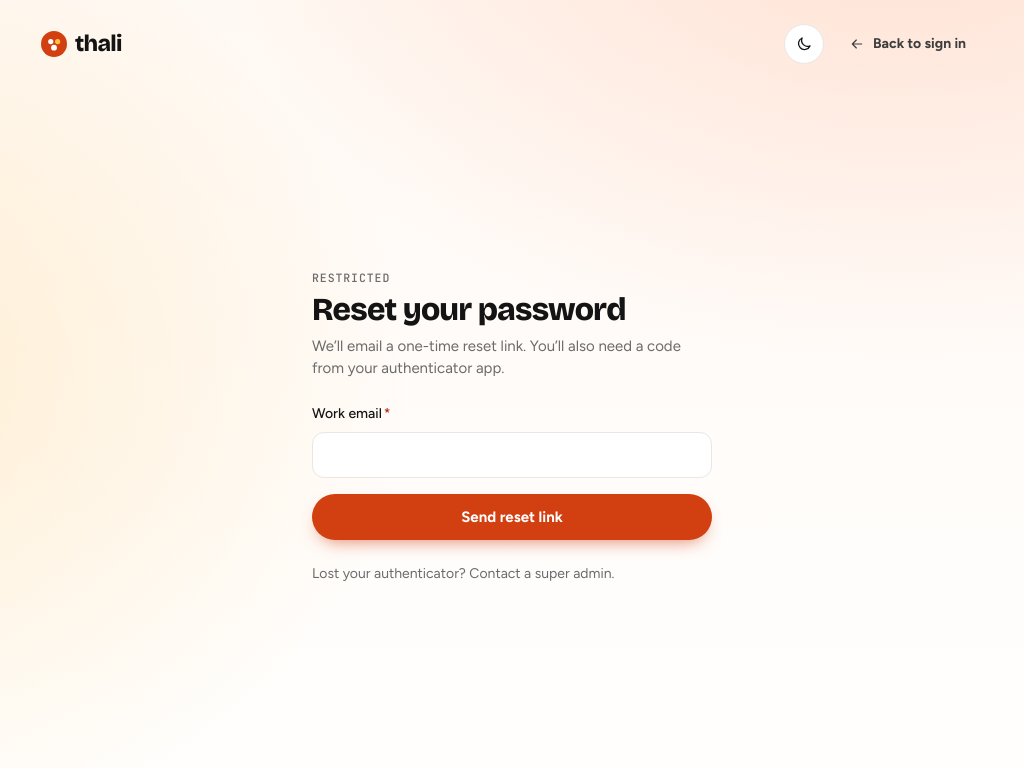
Test: admin password reset (IDN-1) › forgot always confirms (no account probing)
Type "ops@thali.app" into the field labelled "Work email*" at (512, 455), box [312, 432, 712, 478]
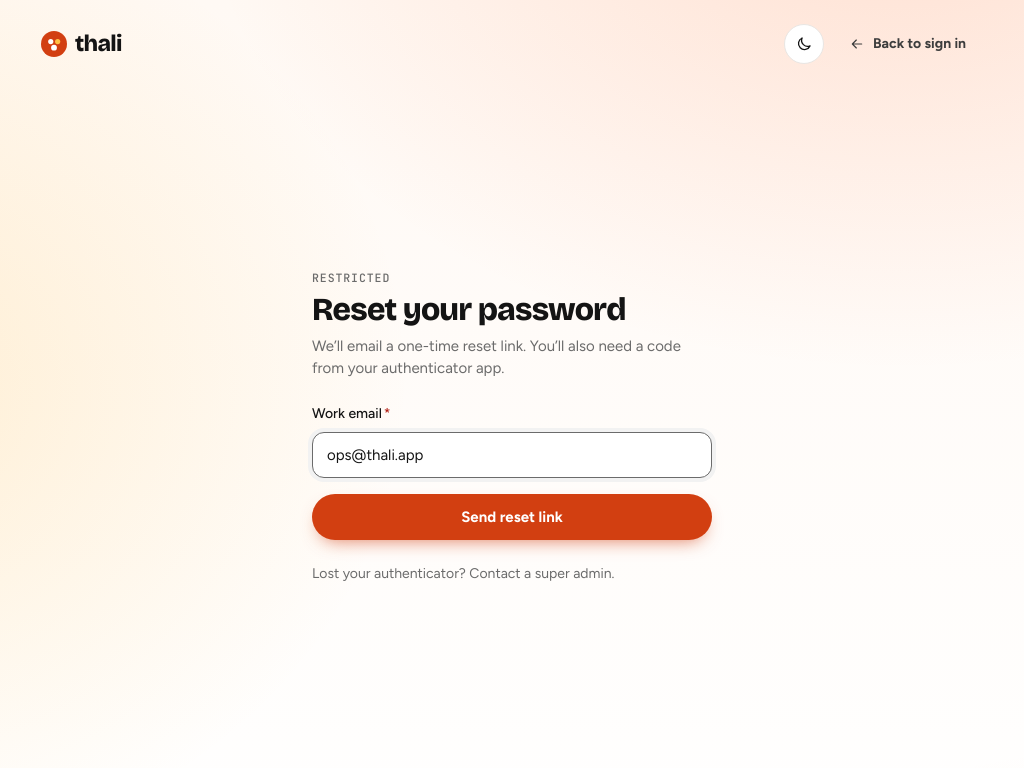
Click the button "Send reset link" at (512, 517), box [312, 494, 712, 540]
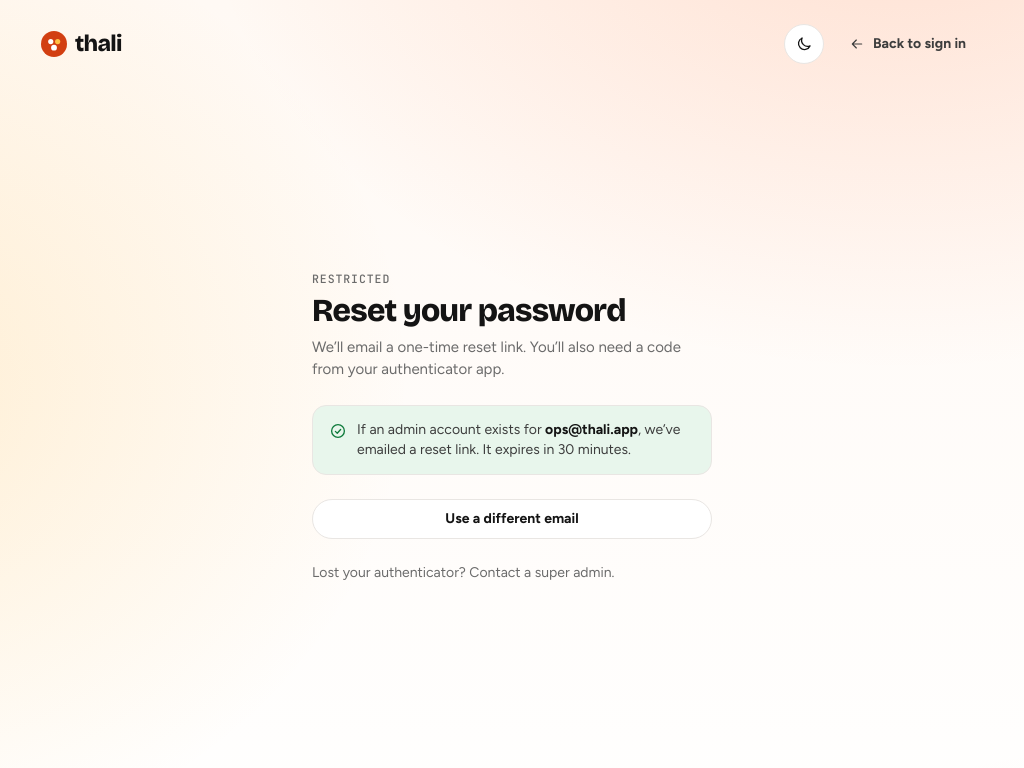
Now the text "we’ve emailed a reset link" is shown, box [357, 421, 680, 458]
